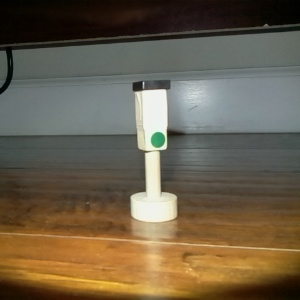traffic light green: (126, 77, 181, 224)
